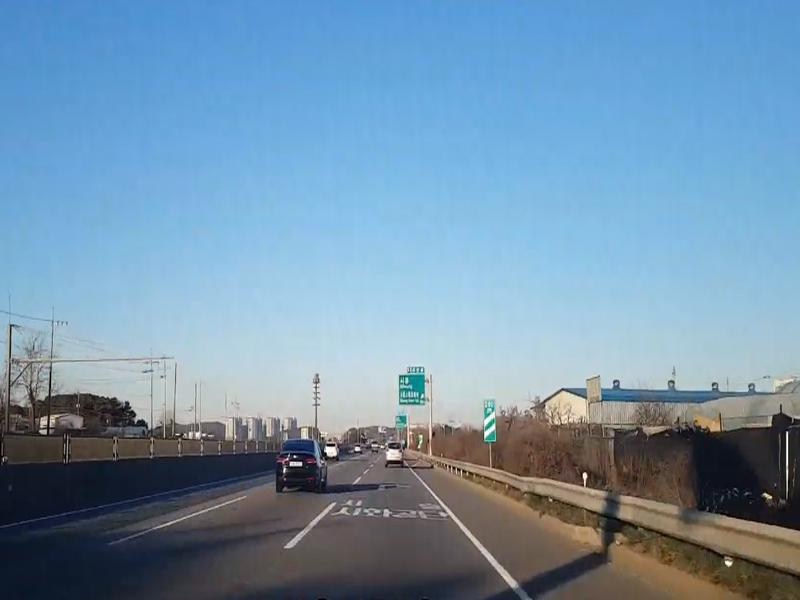car: (278, 439, 327, 489), (385, 441, 404, 466)
lane: (125, 498, 243, 540), (455, 516, 514, 585), (290, 502, 334, 548), (411, 468, 439, 498)
